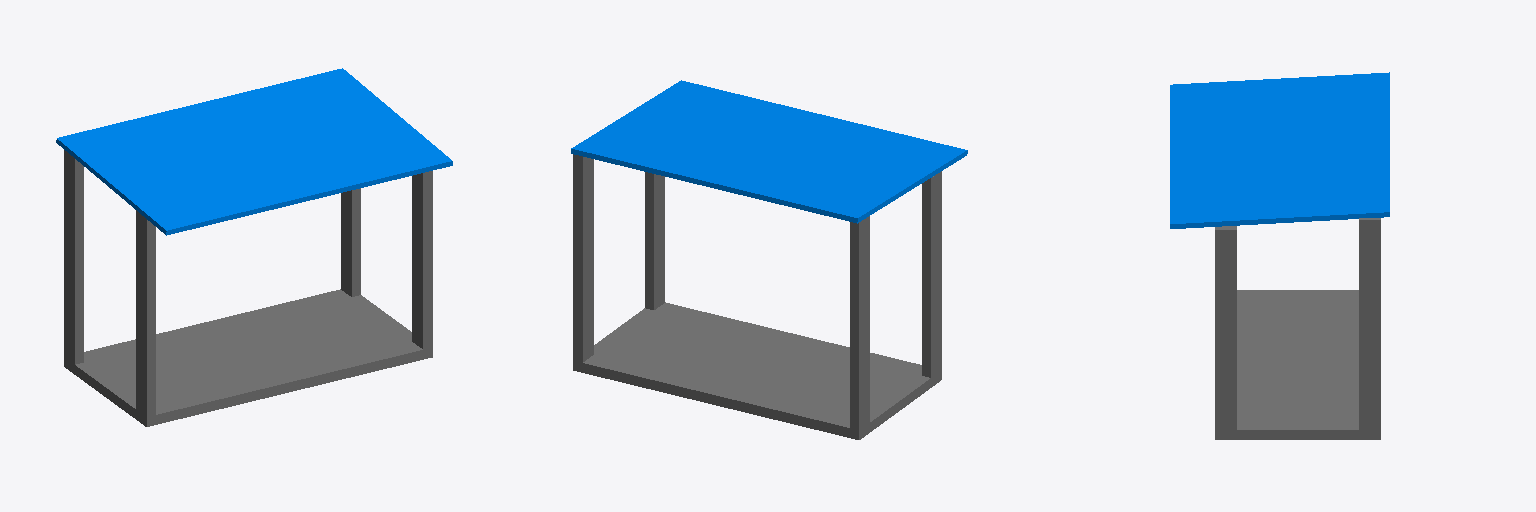
The model's file is Puesto.obj.
3 views of the same model, side by side, from view 1: azimuth 30°, elevation 25°; view 2: azimuth 150°, elevation 25°; view 3: azimuth 270°, elevation 25° (orthographic).
Visible parts, largest first — view 1: pCube41, pCube36, pCube38, pCube37, pCube39, pCube40; view 2: pCube41, pCube36, pCube40, pCube38, pCube37, pCube39; view 3: pCube41, pCube36, pCube40, pCube39.
Part boxes in pixels (bbox=[...]): pCube41: bbox=[56, 68, 452, 235]; pCube36: bbox=[64, 289, 432, 426]; pCube38: bbox=[64, 150, 83, 364]; pCube37: bbox=[136, 210, 155, 416]; pCube39: bbox=[412, 171, 432, 349]; pCube40: bbox=[341, 188, 360, 296]; pCube41: bbox=[571, 80, 967, 223]; pCube36: bbox=[573, 302, 941, 439]; pCube40: bbox=[573, 154, 593, 362]; pCube38: bbox=[850, 216, 869, 429]; pCube37: bbox=[922, 171, 941, 377]; pCube39: bbox=[645, 172, 664, 309]; pCube41: bbox=[1170, 72, 1389, 228]; pCube36: bbox=[1215, 290, 1380, 439]; pCube40: bbox=[1359, 218, 1380, 429]; pCube39: bbox=[1215, 226, 1236, 429].
Bounding box in the file's own units: 3.03 × 2.26 × 2.